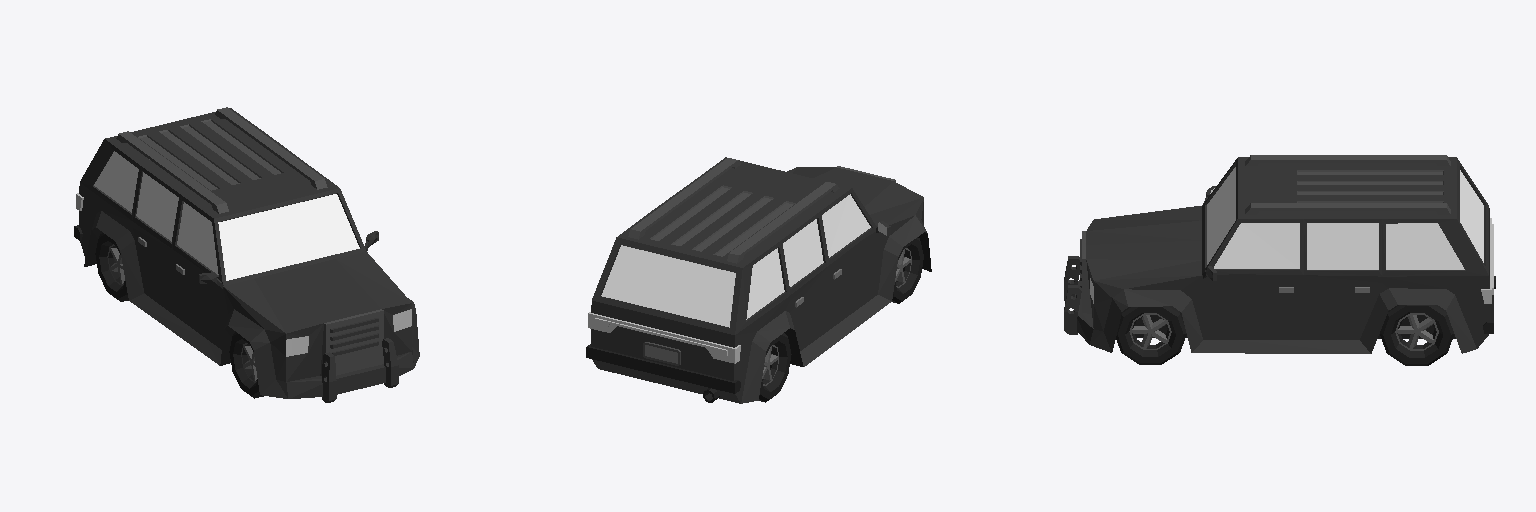
3 views of the same model, side by side, from view 1: azimuth 30°, elevation 25°; view 2: azimuth 150°, elevation 25°; view 3: azimuth 270°, elevation 25° (orthographic).
Visible parts, largest first — view 1: van, wheels.011, wheels.010; view 2: van, wheels.011, wheels.010; view 3: van, wheels.049, wheels.048.
Part boxes in pixels (bbox=[...]): van: bbox=[74, 107, 419, 402]; wheels.011: bbox=[95, 233, 128, 301]; wheels.010: bbox=[229, 332, 263, 398]; van: bbox=[586, 157, 931, 403]; wheels.011: bbox=[759, 333, 791, 402]; wheels.010: bbox=[892, 237, 923, 303]; van: bbox=[1064, 155, 1495, 353]; wheels.049: bbox=[1380, 305, 1453, 365]; wheels.048: bbox=[1116, 306, 1186, 364].
Size of the model in its own units: 2.47 by 1.97 by 5.15.
3 materials, 1 textured.